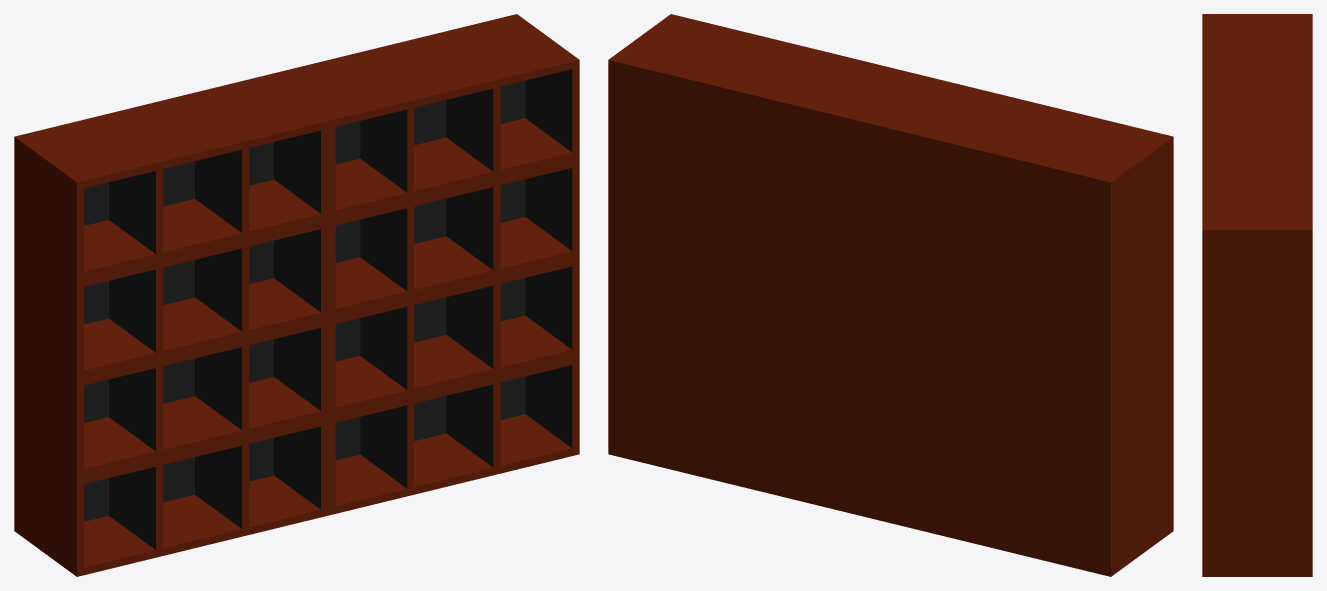
Rendered from EmptyShelfModel.dae.
The picture shows the model from 3 angles, left to right: view 1: azimuth 30°, elevation 25°; view 2: azimuth 150°, elevation 25°; view 3: azimuth 270°, elevation 25°; orthographic projection. The views are drawn at different scales.
Visible parts, largest first — view 1: SketchUp (×49); view 2: SketchUp; view 3: SketchUp.
Boxes of the visible parts, <box> form: SketchUp (×49): <box>14,14,579,576</box>; SketchUp: <box>608,14,1173,576</box>; SketchUp: <box>1202,14,1312,576</box>.
Size of the model in its own units: 547 by 118 by 410.
